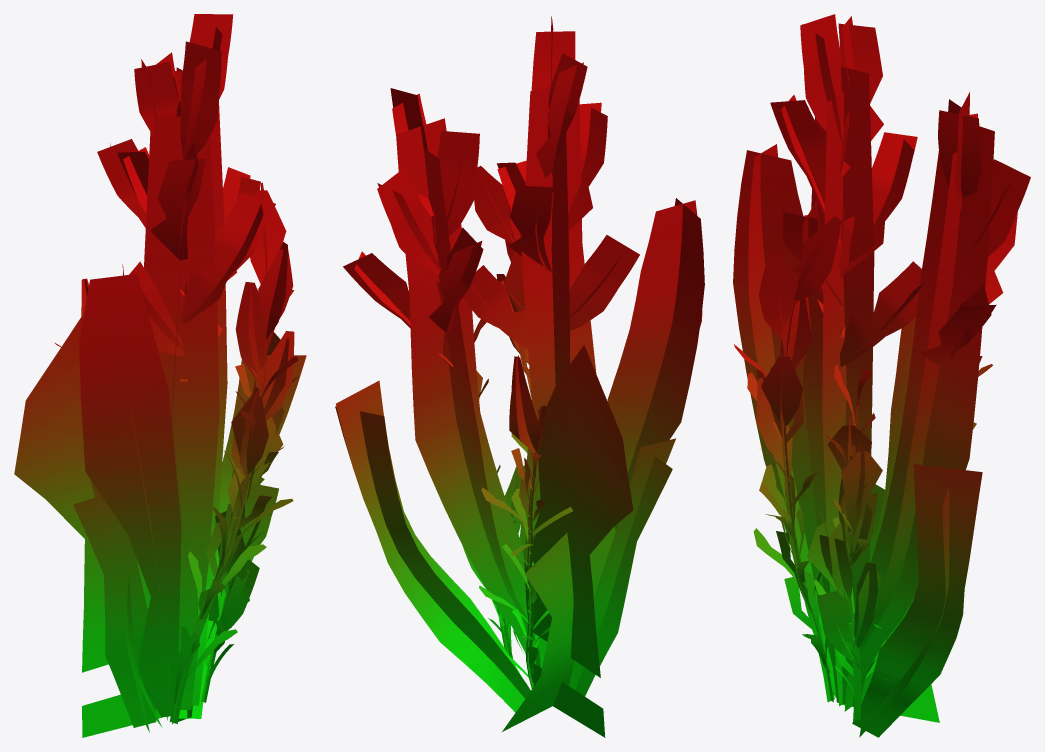
File: F01_Seaweed_01.fbx
The picture shows the model from 3 angles, left to right: view 1: azimuth 30°, elevation 25°; view 2: azimuth 150°, elevation 25°; view 3: azimuth 270°, elevation 25°; orthographic projection. The views are drawn at different scales.
Parts seen in each view (by area): view 1: _d6c5_Var1_LOD0; view 2: _d6c5_Var1_LOD0; view 3: _d6c5_Var1_LOD0.
Part boxes in pixels (x1,y1,x2,y2): _d6c5_Var1_LOD0: (14,14,306,737); _d6c5_Var1_LOD0: (335,16,704,737); _d6c5_Var1_LOD0: (733,14,1030,737).
Bounding box in the file's own units: 37.99 × 83.27 × 31.36.
